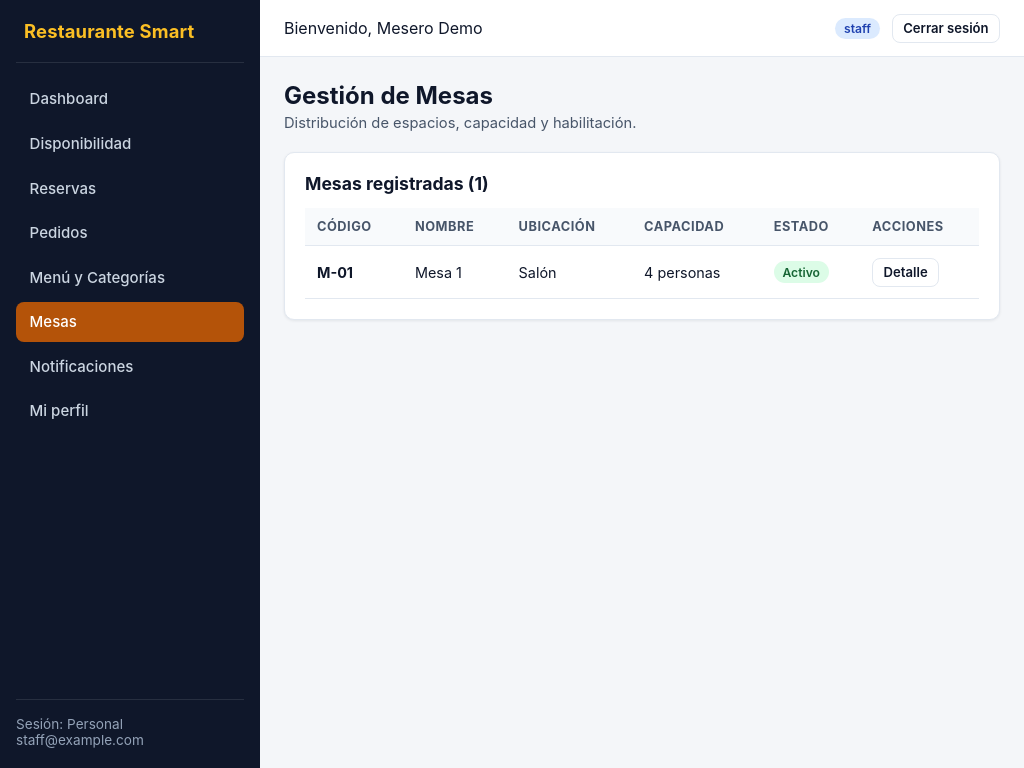
Test: Fase 15 — Cobertura integral de servicios, RBAC, flujos y edge cases › RBAC para staff y cierre de sesión desde AppLayout
This screenshot has width=1024, height=768.
expect the heading "Gestión de Mesas" is shown: met, box [284,81,493,110]
expect the link "Mi perfil" is shown: met, box [30,401,89,420]
Click the button "Detalle".
click(906, 272)  # box [872,258,939,287]
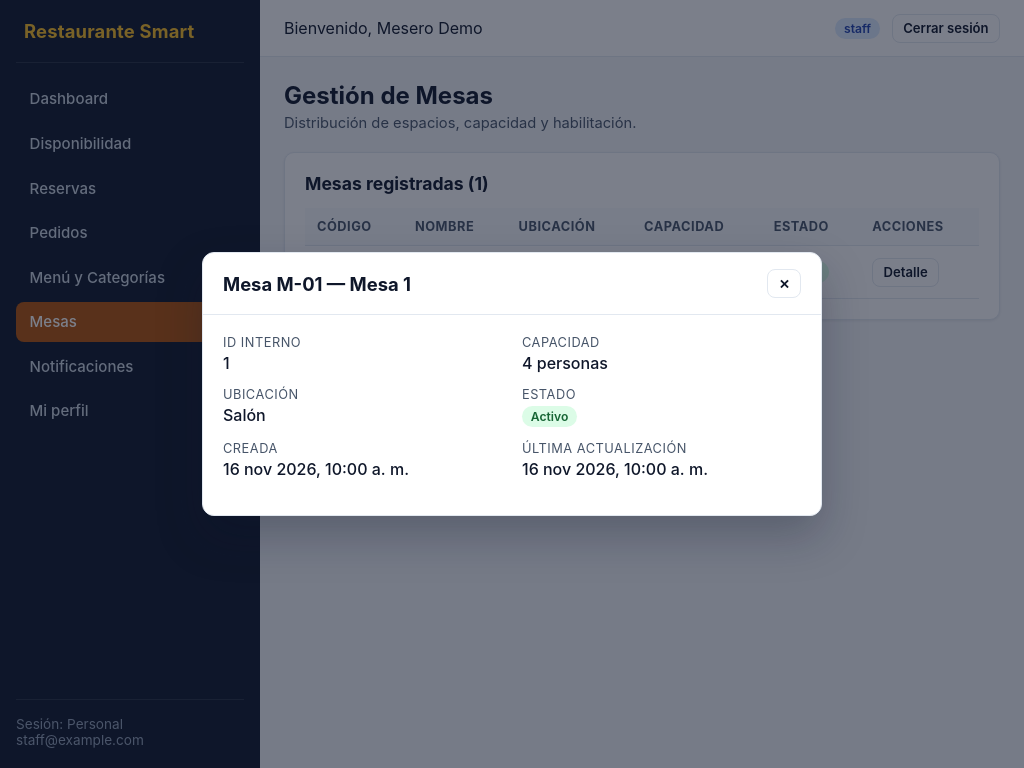
expect the dialog shows "Mesa M-01 — Mesa 1": met, box [223,272,411,294]
Click the button named "Cerrar ventana".
click(784, 284)  # box [767,269,801,298]
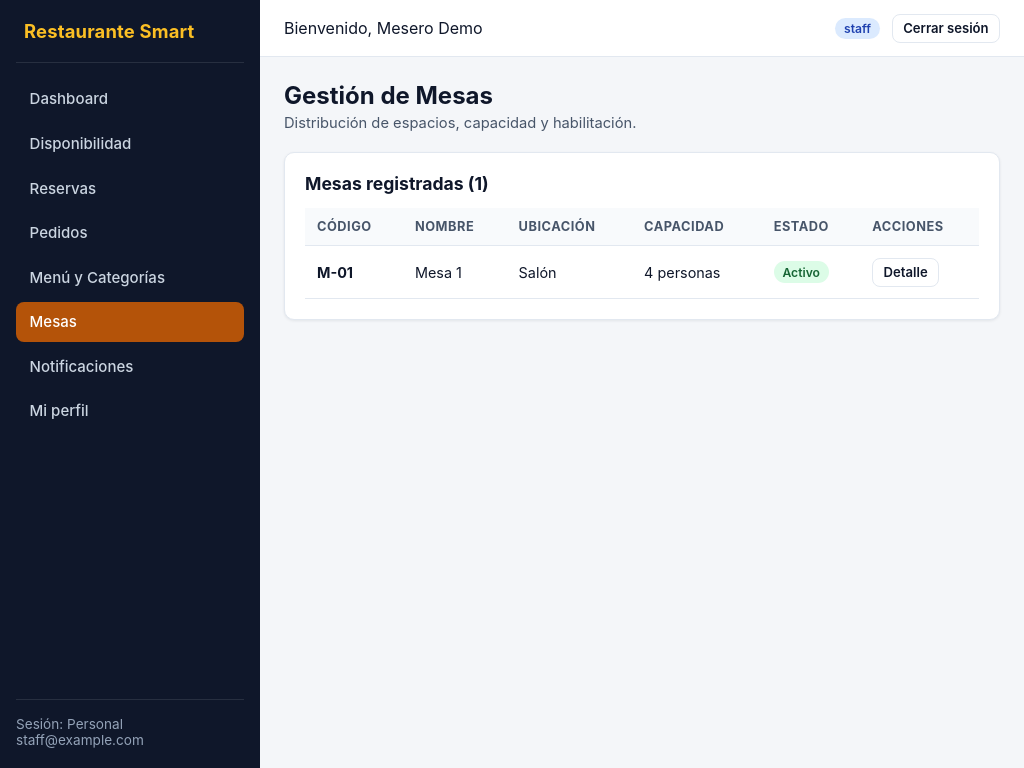
Click the button "Cerrar sesión".
click(946, 28)  # box [892,14,1000,43]
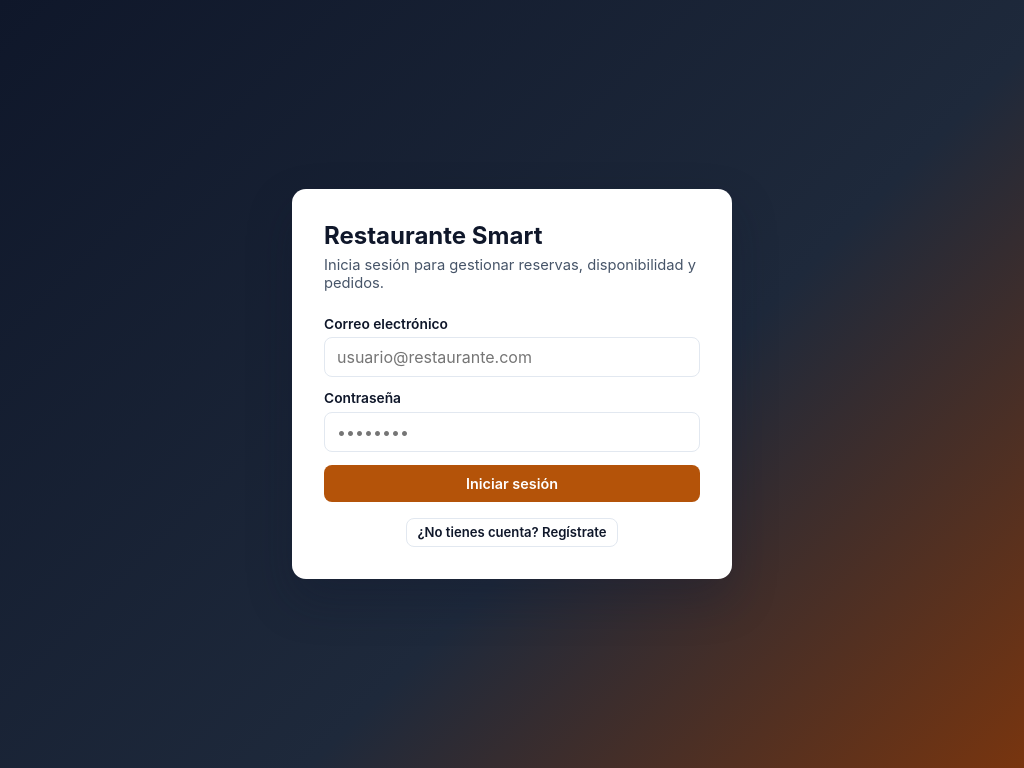
expect the heading "Restaurante Smart" is shown: met, box [324,221,542,250]
